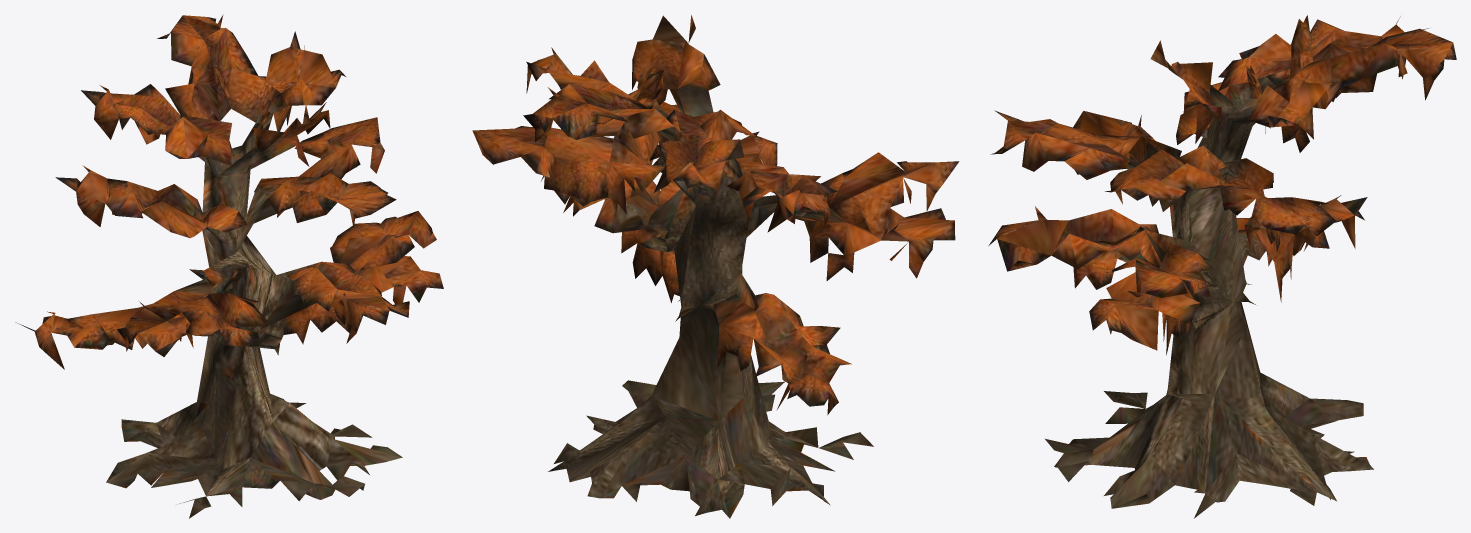
Rendered from autumn-tree.glb.
3 views of the same model, side by side, from view 1: azimuth 30°, elevation 25°; view 2: azimuth 150°, elevation 25°; view 3: azimuth 270°, elevation 25° (orthographic). The views are drawn at different scales.
Visible parts, largest first — view 1: SM_AutumnTree_LOD0; view 2: SM_AutumnTree_LOD0; view 3: SM_AutumnTree_LOD0.
Boxes of the visible parts, box(x1,y1,x2,y2) form: SM_AutumnTree_LOD0: box(15, 14, 443, 518); SM_AutumnTree_LOD0: box(472, 15, 959, 518); SM_AutumnTree_LOD0: box(988, 15, 1456, 518).
Bounding box in the file's own units: 0.9367 × 1.01 × 0.9493.
Materials: 1 (1 with a texture image).
